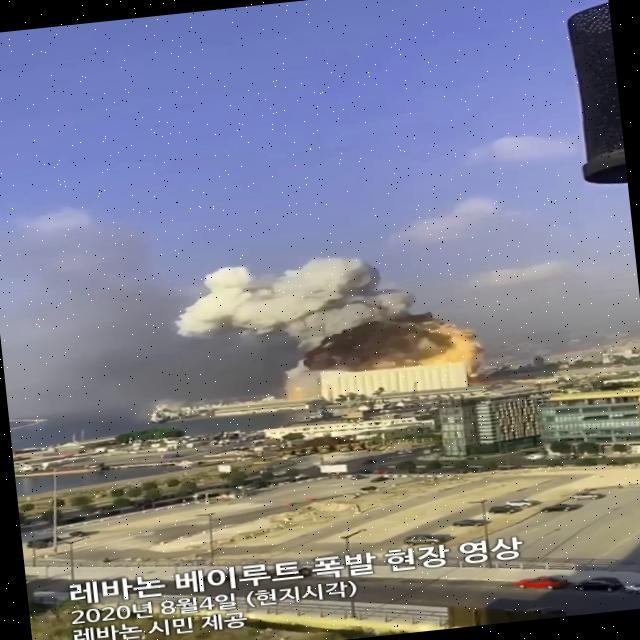explosion: (180, 218, 502, 430)
